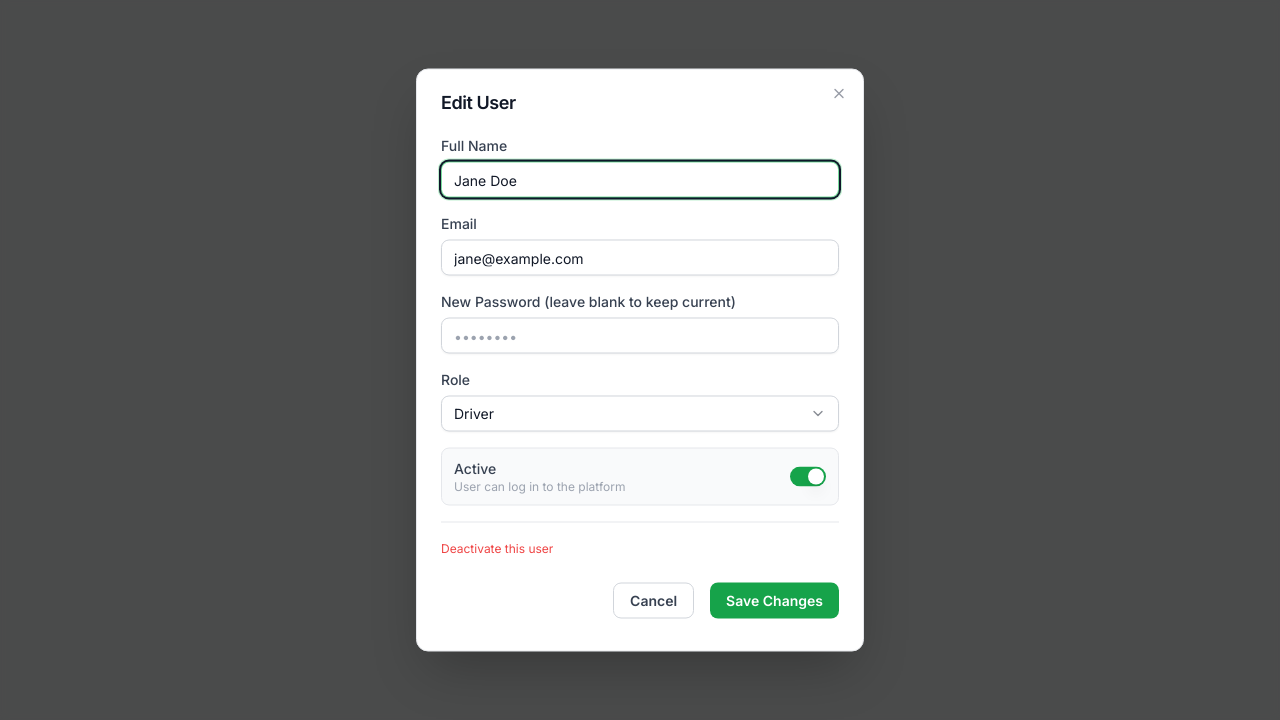
Deactivate confirmation flow › shows inline confirmation prompt after clicking Deactivate
The image size is (1280, 720).
Click the button "Deactivate this user": (497,548) [441,540,553,556]
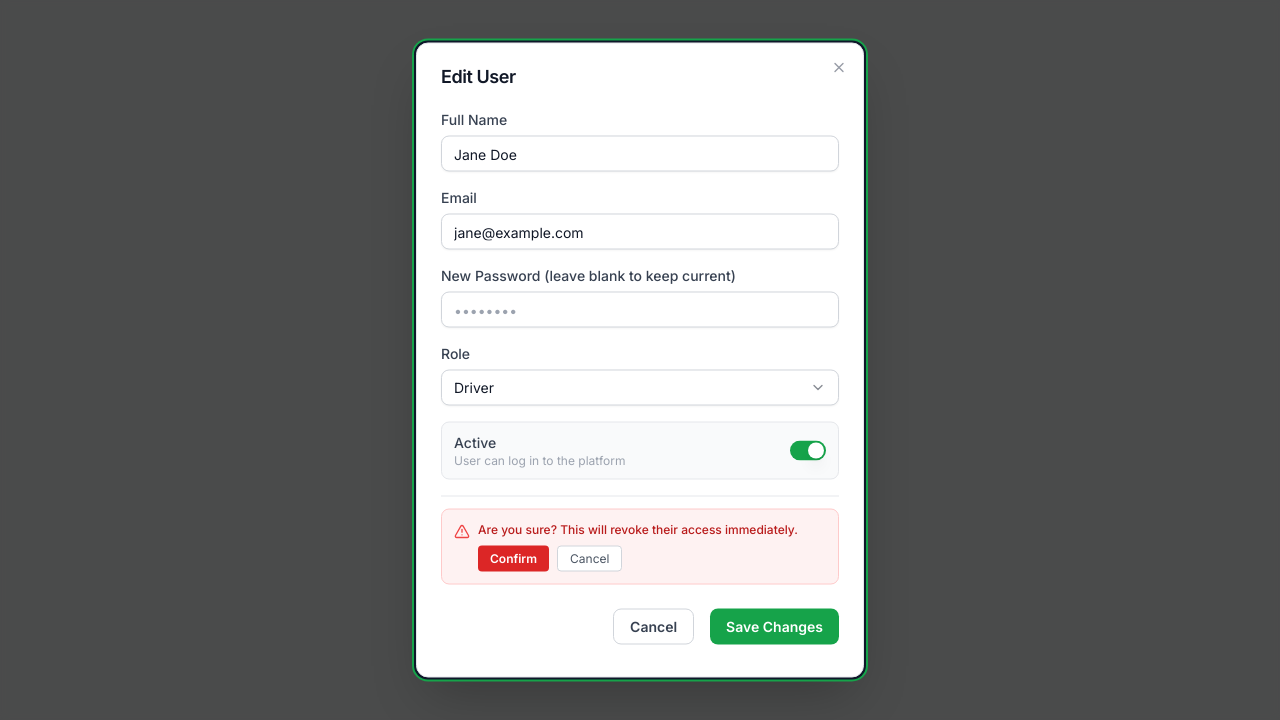
Check: the text "Are you sure? This will revoke their access immediately." is shown, box [478,522,826,538]
Check: the button "Confirm" is shown, box [478,546,549,572]
Check: the number of buttons "Cancel" is 2, box [557,546,622,572]; [613,608,694,644]
